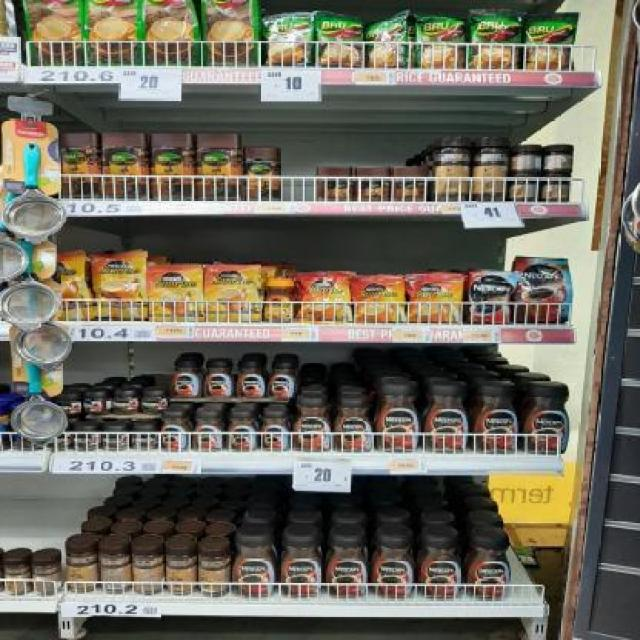Coffee: (92, 254, 146, 320), (519, 259, 570, 323), (422, 386, 468, 452), (474, 386, 518, 454), (526, 385, 569, 453), (150, 264, 202, 320), (208, 265, 260, 321), (376, 384, 420, 450), (465, 538, 512, 598), (279, 537, 321, 600), (418, 538, 462, 597), (235, 536, 276, 596), (467, 270, 513, 322), (355, 278, 407, 324), (299, 273, 347, 322), (375, 538, 414, 598), (328, 538, 368, 596), (412, 278, 462, 324), (335, 397, 374, 452), (294, 399, 330, 450), (262, 280, 295, 322), (192, 411, 223, 452), (227, 411, 258, 451), (159, 412, 187, 452), (262, 410, 289, 450), (237, 362, 265, 400), (172, 359, 199, 398), (205, 360, 232, 398), (268, 363, 294, 399), (70, 426, 99, 451), (82, 392, 110, 417), (130, 425, 158, 450), (102, 425, 129, 450), (112, 390, 137, 416), (141, 389, 165, 413)
